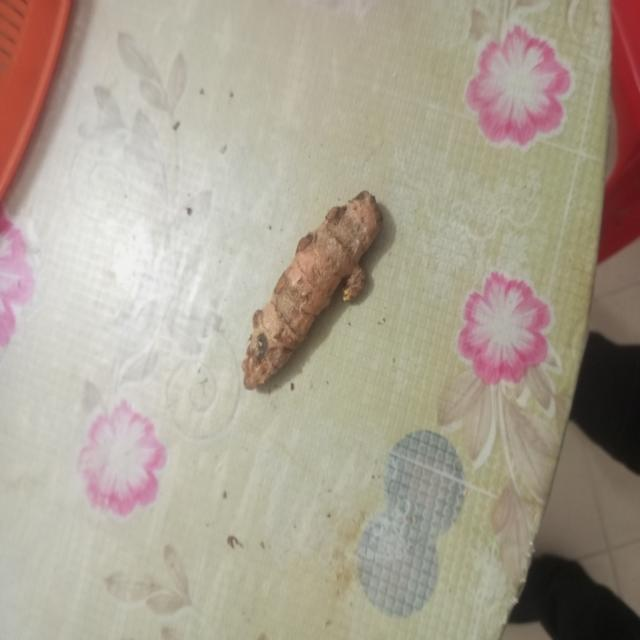ginger: (244, 188, 380, 378)
